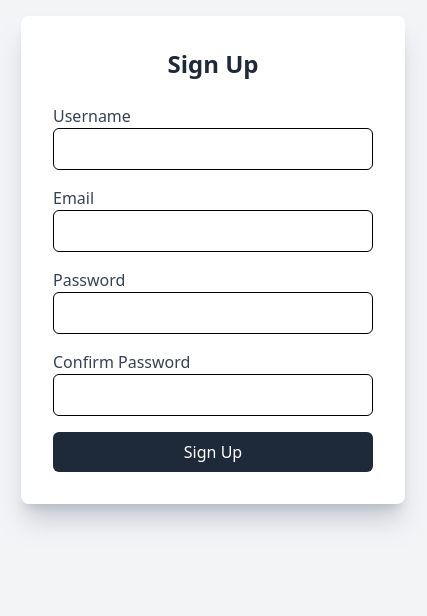
Test: Register component › should show validation errors for empty fields
Click the button "Sign Up" at (213, 452), box x1=53 y1=432 x2=373 y2=472
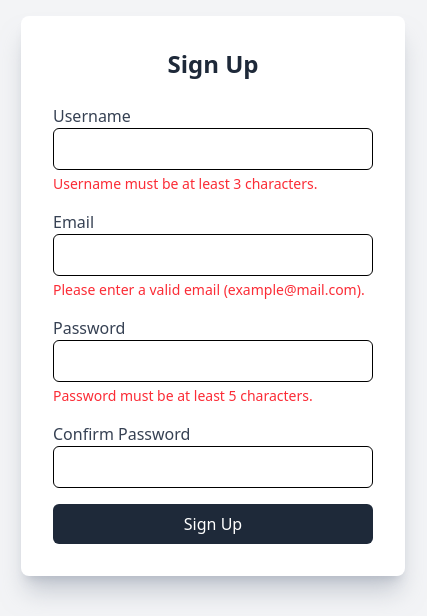
Now the text "Username must be at least 3 characters." is shown, box x1=53 y1=174 x2=318 y2=193
Now the text "Please enter a valid email (example@mail.com)." is shown, box x1=53 y1=280 x2=373 y2=300
Now the text "Password must be at least 5 characters." is shown, box x1=53 y1=386 x2=313 y2=405
